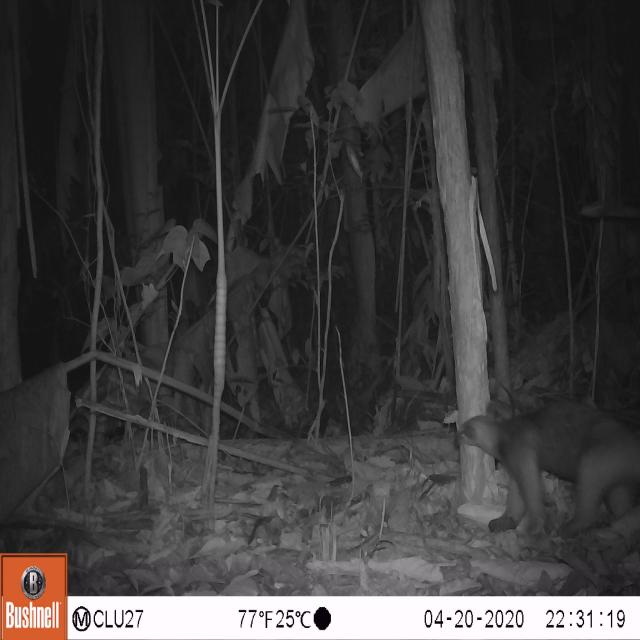Southern Tamandua: (455, 396, 640, 534)
